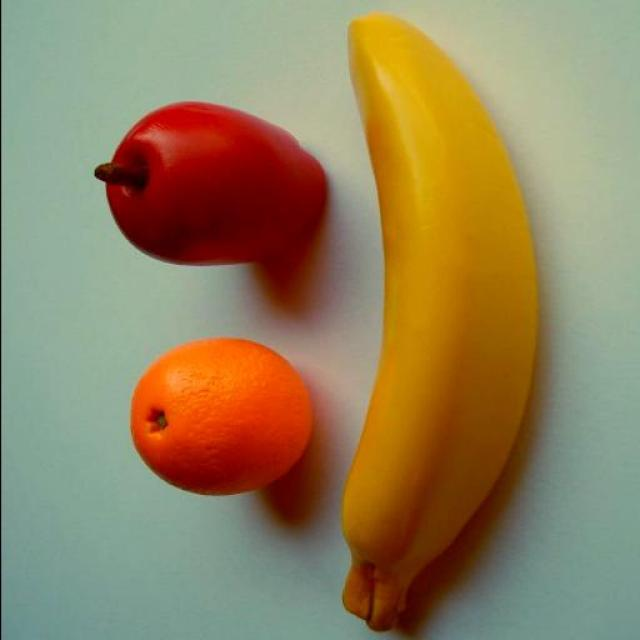1: (338, 11, 537, 631)
Orange: (130, 338, 313, 497)
tomato: (91, 101, 323, 265)
